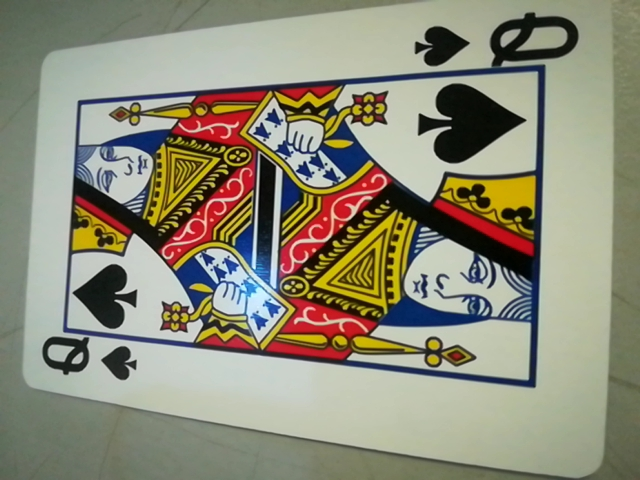ht q: (403, 11, 588, 72)
